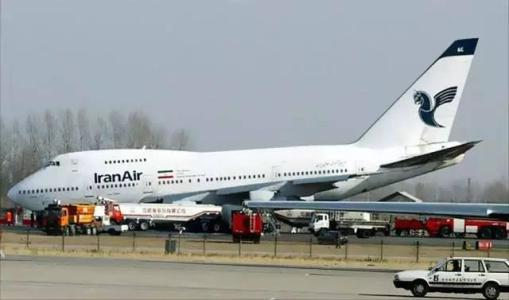airplane: (7, 33, 501, 228)
